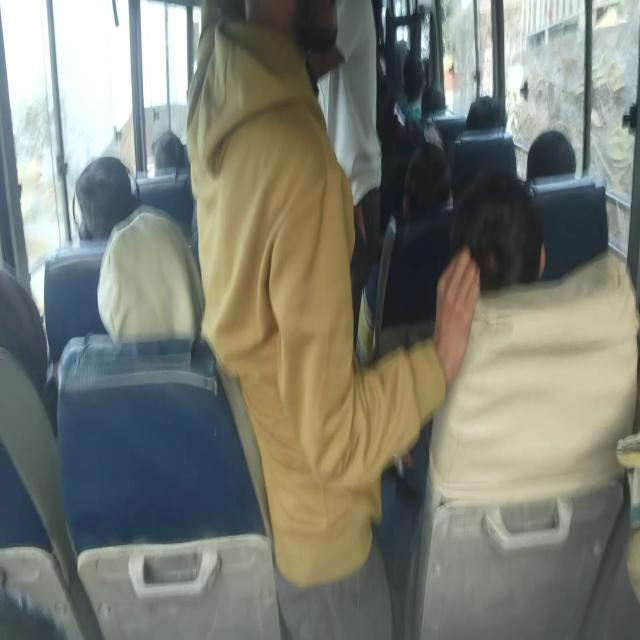person: (185, 0, 481, 638), (427, 167, 639, 505), (96, 204, 205, 344), (448, 168, 547, 292), (72, 155, 140, 241), (526, 129, 576, 179), (150, 130, 187, 177)
